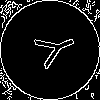Y: (25, 25, 80, 74)
